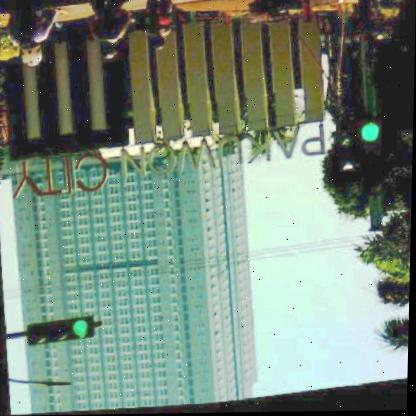Traffic Light -Green-: (352, 119, 388, 205), (24, 317, 95, 348)
